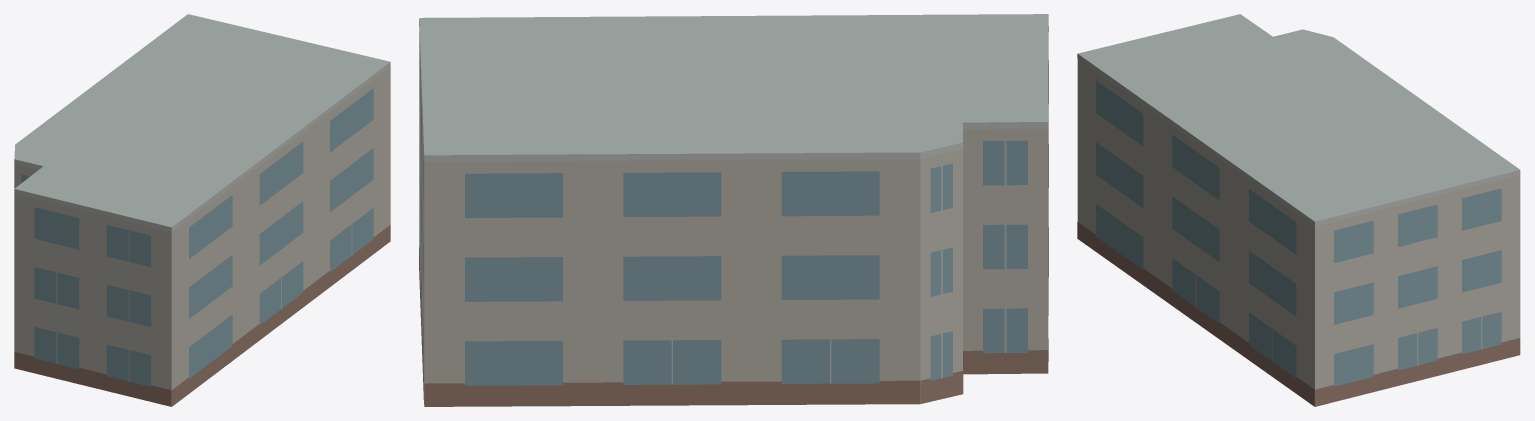
File: survey-upis-32721344.glb
3 views of the same model, side by side, from view 1: azimuth 30°, elevation 25°; view 2: azimuth 150°, elevation 25°; view 3: azimuth 270°, elevation 25° (orthographic). The views are drawn at different scales.
Visible parts, largest first — view 1: survey-upis-32721344.tmp; view 2: survey-upis-32721344.tmp; view 3: survey-upis-32721344.tmp.
Boxes of the visible parts, x1,y1,x2,y2 form: survey-upis-32721344.tmp: (14, 14, 390, 406); survey-upis-32721344.tmp: (419, 14, 1048, 406); survey-upis-32721344.tmp: (1077, 14, 1520, 406).
Size of the model in its own units: 22.02 by 9.15 by 19.84.
